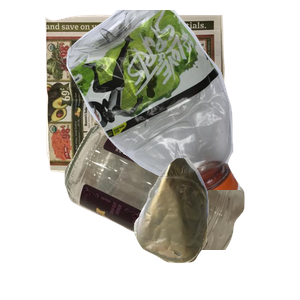glass: (62, 120, 300, 300)
paper: (42, 12, 260, 185)
plastic: (64, 10, 300, 190)
trash: (131, 155, 300, 300)
